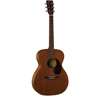guitar: (32, 1, 69, 96)
